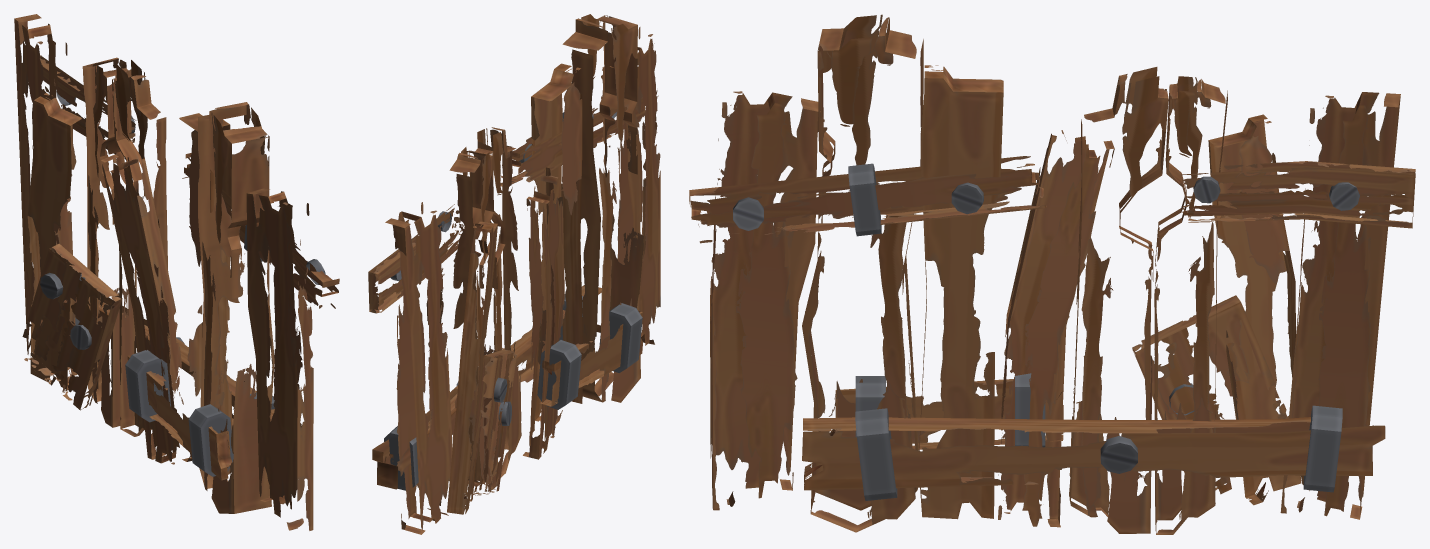
The model's file is hvs_plank_short.fbx.
3 views of the same model, side by side, from view 1: azimuth 30°, elevation 25°; view 2: azimuth 150°, elevation 25°; view 3: azimuth 270°, elevation 25° (orthographic). The views are drawn at different scales.
Visible parts, largest first — view 1: hvs_plank_02; view 2: hvs_plank_02; view 3: hvs_plank_02.
Boxes of the visible parts, x1,y1,x2,y2 form: hvs_plank_02: (14,14,339,530); hvs_plank_02: (368,14,660,534); hvs_plank_02: (689,14,1415,534).
Size of the model in its own units: 1.44 by 5.93 by 7.78.
